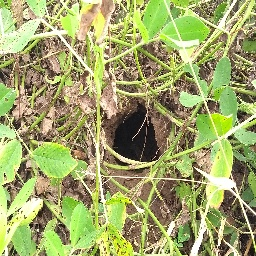GroundNut_Leaf: (156, 15, 213, 50), (29, 141, 78, 175), (2, 18, 40, 55), (69, 202, 96, 251), (104, 190, 129, 235), (193, 112, 236, 138), (1, 139, 24, 186), (209, 139, 236, 175), (212, 55, 232, 88), (12, 227, 33, 256), (60, 13, 79, 43), (1, 83, 17, 115)
